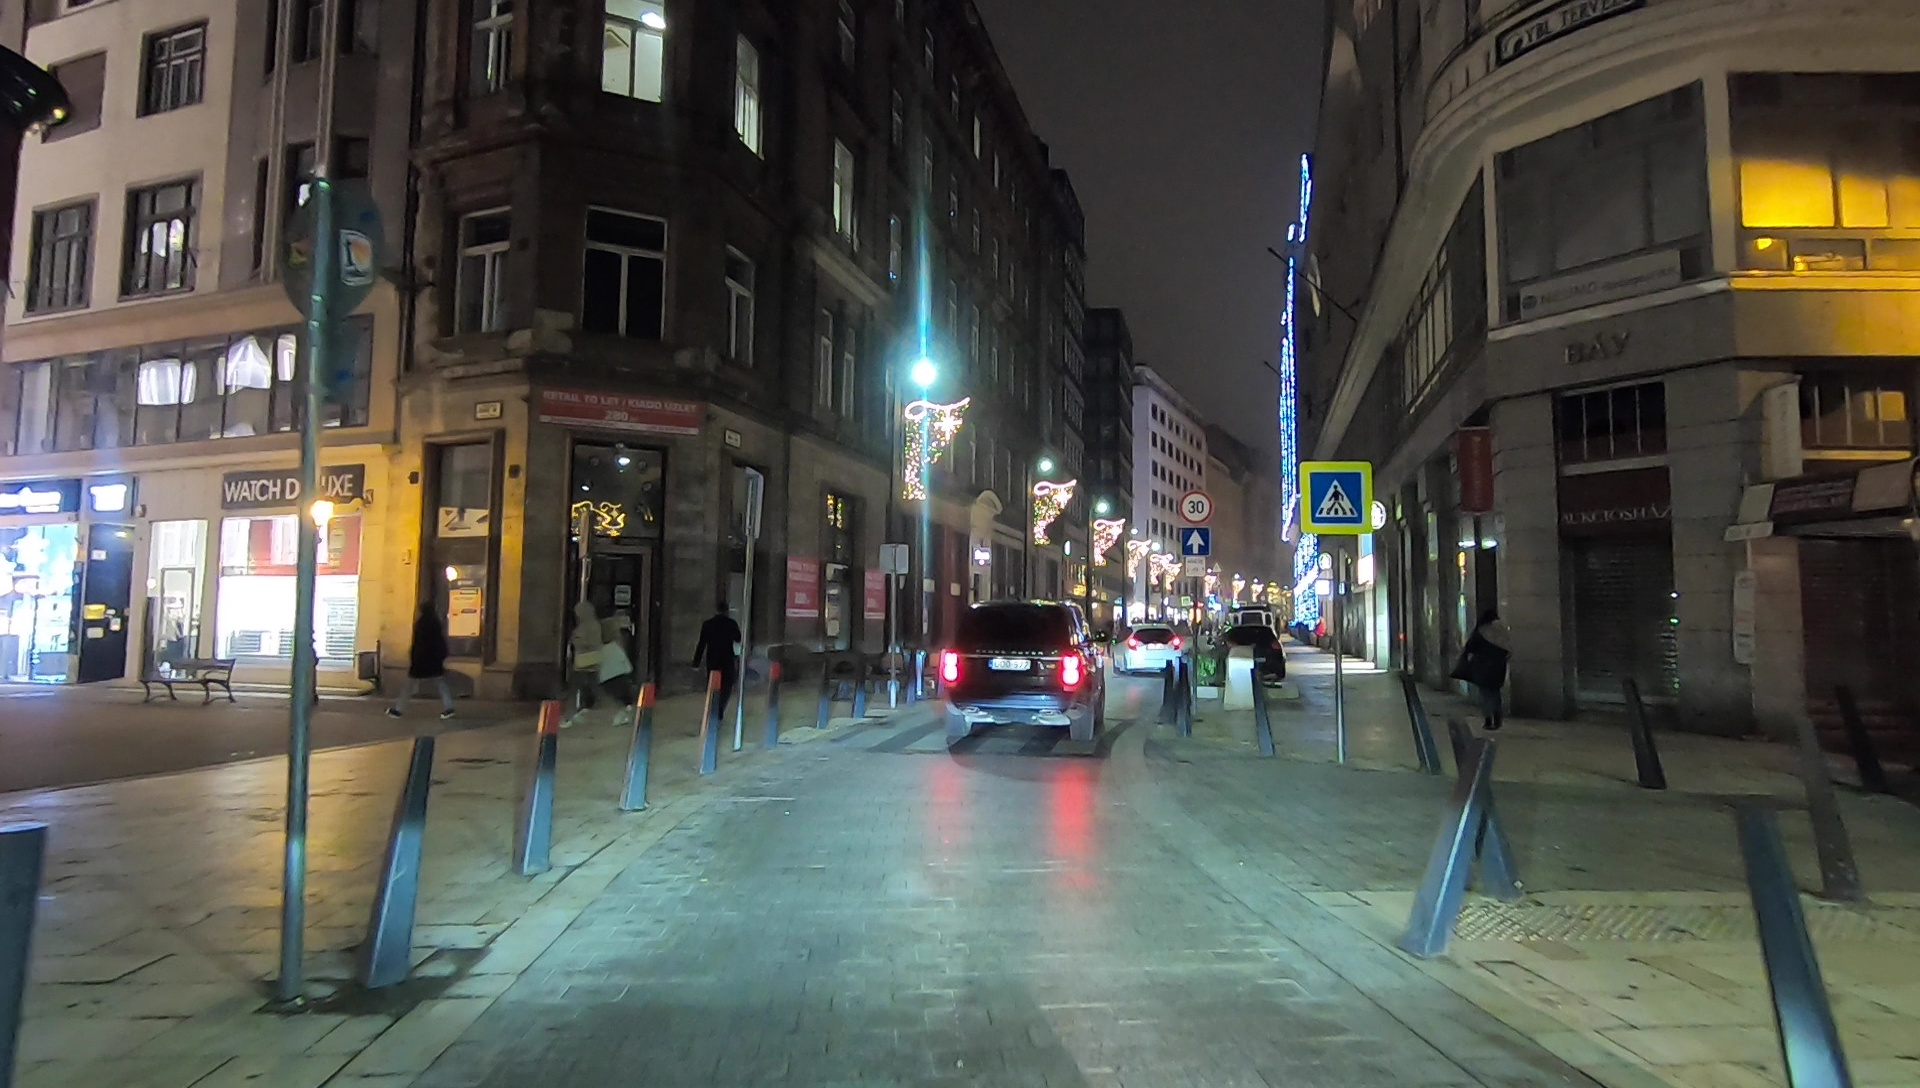person: (389, 595, 456, 730), (695, 602, 744, 724), (1464, 608, 1511, 727), (562, 602, 602, 731), (599, 613, 635, 732)
